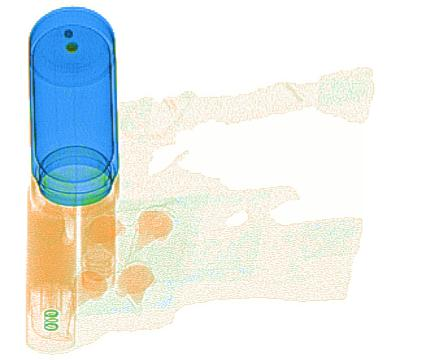plasticBottleWithaNozzle: (21, 191, 78, 344)
